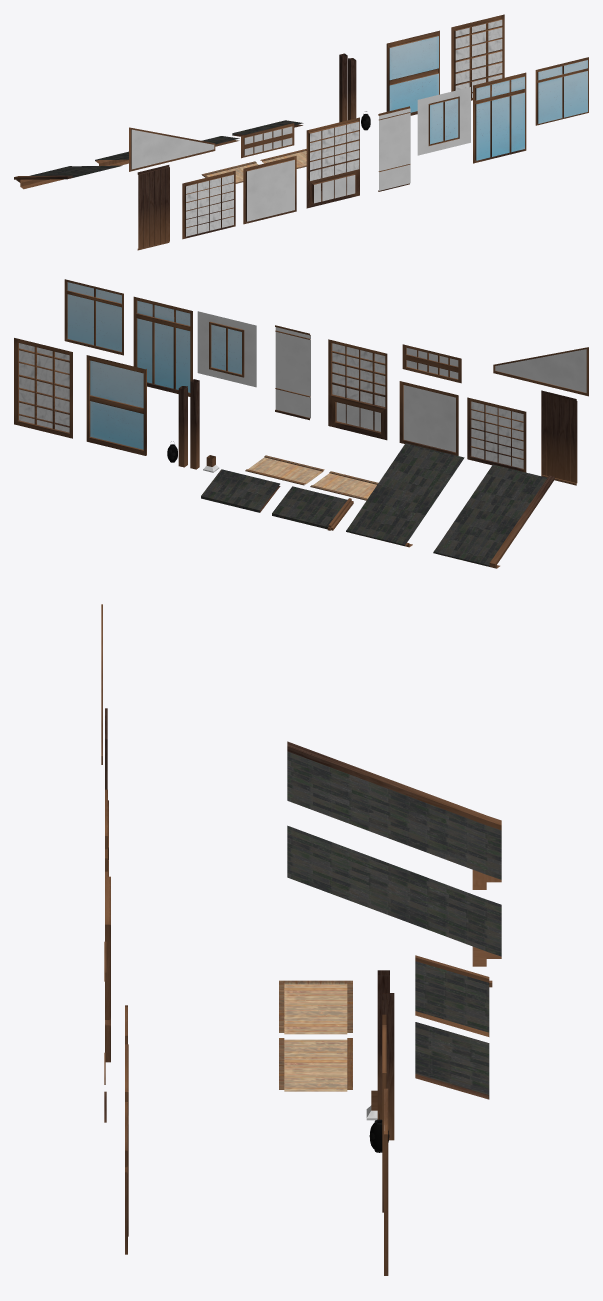
The model's file is simple_japanese_modular_asset_library.glb.
3 renders of one model, top to bottom at view 1: azimuth 30°, elevation 25°; view 2: azimuth 150°, elevation 25°; view 3: azimuth 270°, elevation 25°, orthographic. The views are drawn at different scales.
Visible parts, largest first — view 1: wall_wide_low, window_large_low, door_glass_low, door_slide_low, window_low, wall_sqaure_low, window_small_low, wall_sqaure_checked_low, Wall_wood_low, wall_thin_low, wall_roof_low, wall_small_checked_low (+7 smaller); view 2: roof_large_edge_low, roof_large_middle_low, door_glass_low, wall_wide_low, door_slide_low, window_large_low, window_low, window_small_low, wall_sqaure_checked_low, wall_sqaure_low, Wall_wood_low, wall_thin_low (+8 smaller); view 3: roof_large_edge_low, roof_large_middle_low, roof_small_edge_low, roof_small_middle_low, balcony_edge_low, balcony_middle_low, pillar_medium_low, wall_wide_low, door_slide_low, pillar_large_low.
Part boxes in pixels (box(x1,y1,x2,y2)): wall_wide_low: box(306, 117, 359, 208); window_large_low: box(473, 72, 526, 163); door_glass_low: box(386, 30, 439, 115); door_slide_low: box(451, 14, 504, 100); window_low: box(417, 87, 470, 155); wall_sqaure_low: box(243, 155, 296, 224); window_small_low: box(535, 57, 588, 125); wall_sqaure_checked_low: box(182, 170, 235, 239); Wall_wood_low: box(137, 165, 169, 250); wall_thin_low: box(378, 106, 410, 191); wall_roof_low: box(129, 127, 215, 171); wall_small_checked_low: box(241, 123, 294, 158); roof_large_edge_low: box(433, 464, 554, 568); roof_large_middle_low: box(346, 443, 464, 547); door_glass_low: box(86, 355, 146, 455); wall_wide_low: box(328, 339, 387, 440); door_slide_low: box(14, 338, 72, 438); window_large_low: box(133, 296, 192, 396); window_low: box(197, 311, 256, 387); window_small_low: box(64, 279, 123, 355); wall_sqaure_checked_low: box(467, 397, 526, 472); wall_sqaure_low: box(399, 381, 458, 455); Wall_wood_low: box(541, 390, 577, 485); wall_thin_low: box(275, 325, 310, 420); roof_large_edge_low: box(287, 741, 501, 889); roof_large_middle_low: box(287, 825, 501, 966); roof_small_edge_low: box(415, 955, 492, 1036); roof_small_middle_low: box(415, 1022, 489, 1099); balcony_edge_low: box(279, 980, 352, 1034); balcony_middle_low: box(279, 1038, 352, 1091); pillar_medium_low: box(382, 993, 394, 1140); wall_wide_low: box(105, 876, 110, 1062); door_slide_low: box(384, 1088, 388, 1275); pillar_large_low: box(377, 970, 389, 1119).
Bounding box in the file's own units: 14.1 × 3.57 × 5.08.
Materials: 1 (1 with a texture image).
